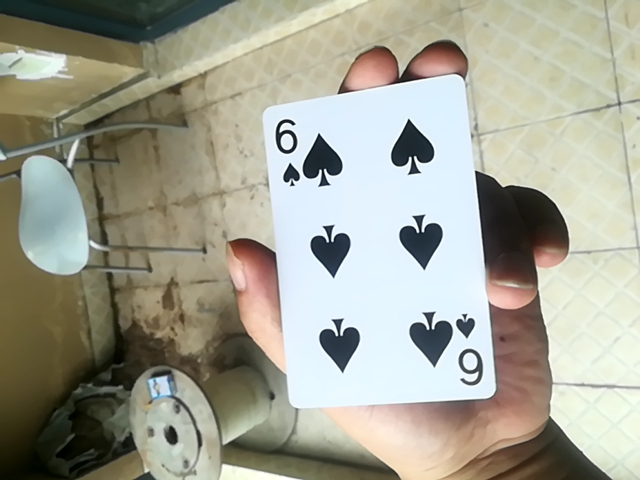ht 6: (262, 73, 490, 407)
